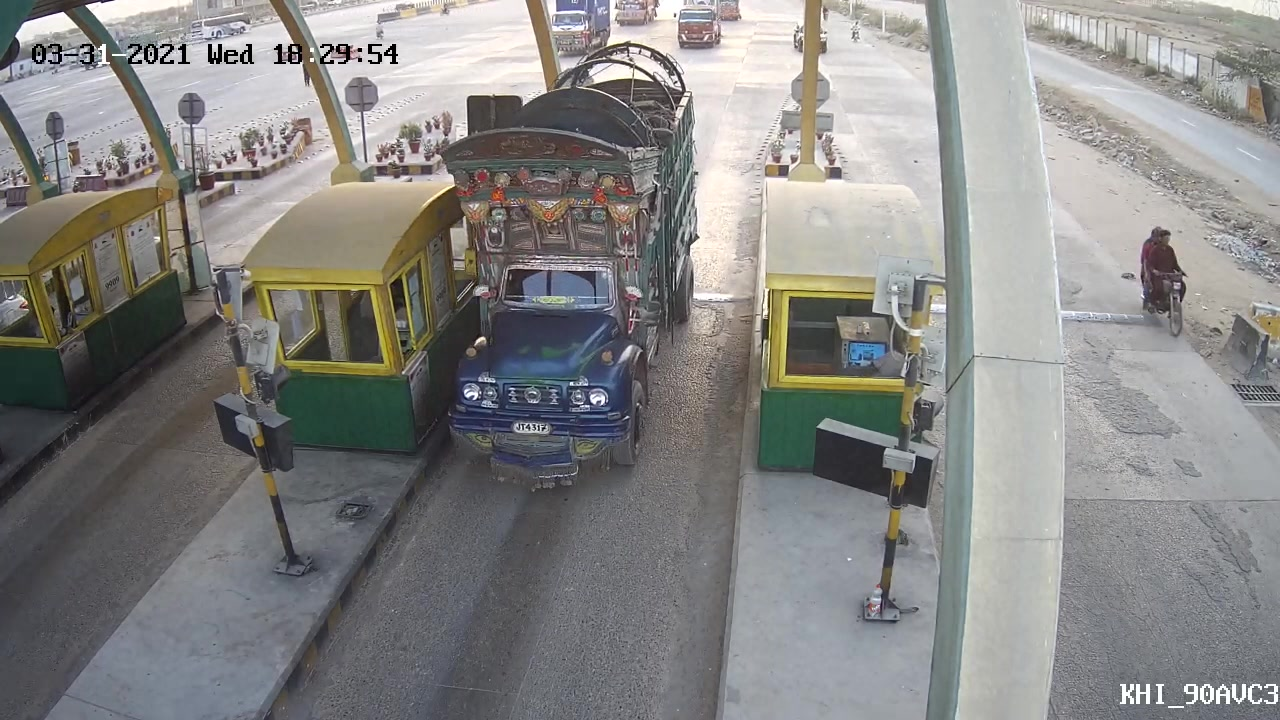F5: (435, 80, 696, 491)
